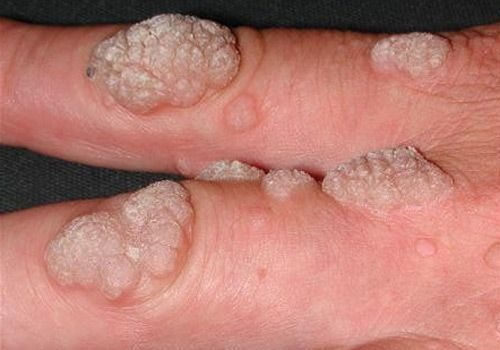Warts: (44, 163, 205, 317), (81, 6, 249, 117), (313, 138, 465, 225), (355, 15, 459, 82), (184, 133, 268, 198), (257, 145, 324, 214)
